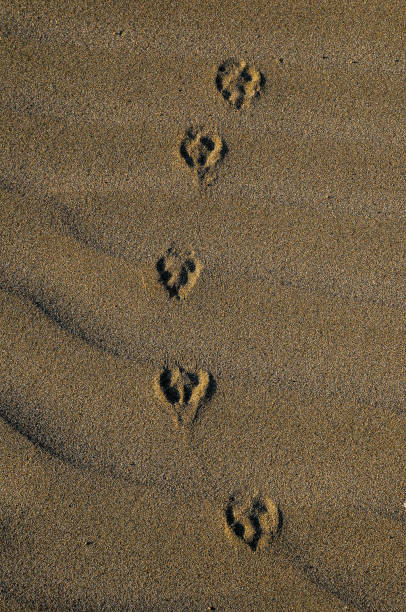animal_footprint: (154, 365, 215, 425), (224, 493, 281, 550), (179, 127, 227, 185), (215, 59, 264, 108), (156, 246, 201, 299)
